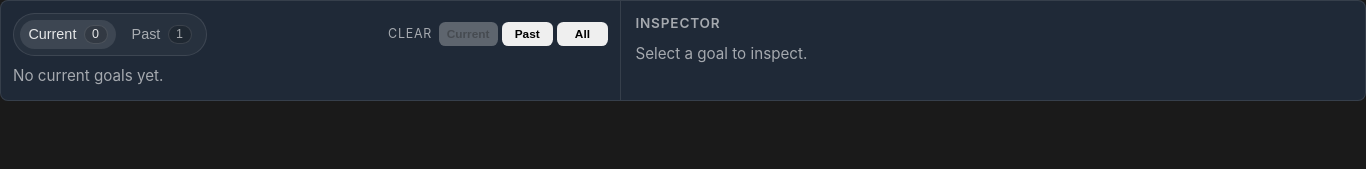
Test: GoalsPanel › shows 'Failed' label for failed goals
What coordinates should you click on to do the following:
click the tab with test id "goals-tab-filter-past"
I would click on:
 (162, 34)
Its box is [123,20,200,49].
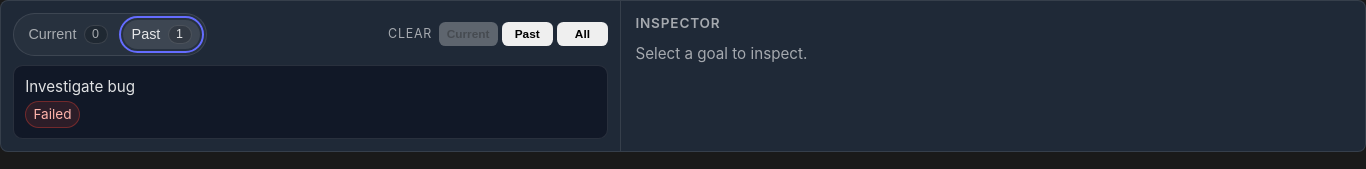
Result: the text "Investigate bug" is shown at [25,77,135,96]
Result: the text "Failed" is shown at [25,101,80,128]
